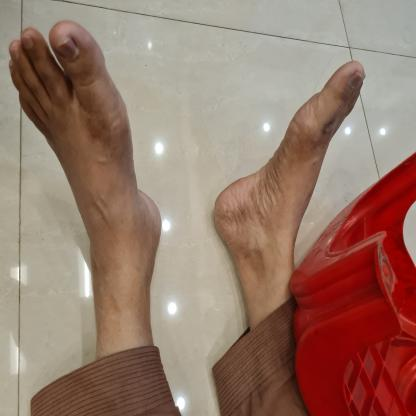leg: (3, 18, 170, 359), (205, 53, 372, 327)
